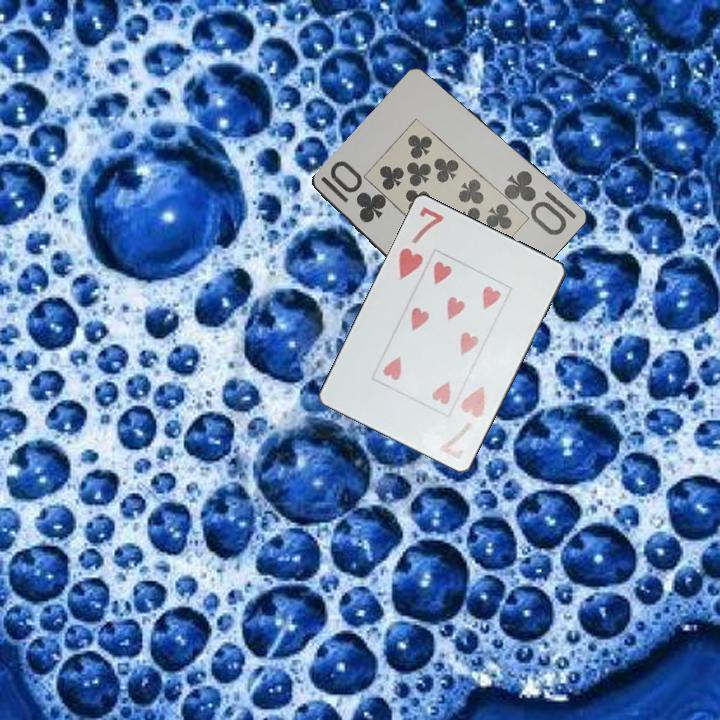7h: (435, 383, 488, 463), (395, 204, 447, 283)
Tc: (500, 167, 579, 239), (316, 158, 388, 226)
